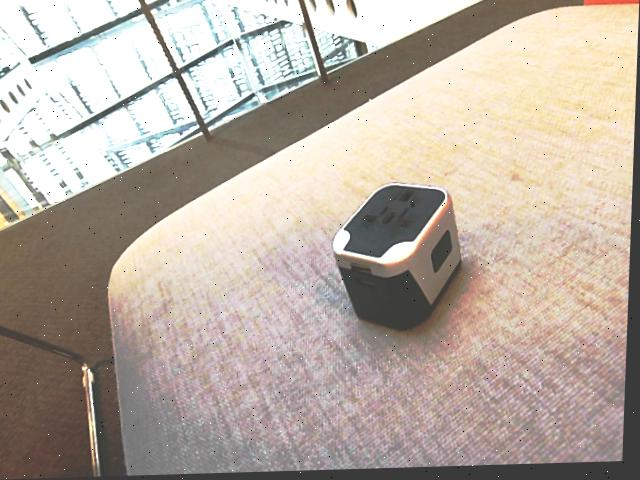adapter: (331, 183, 466, 334)
